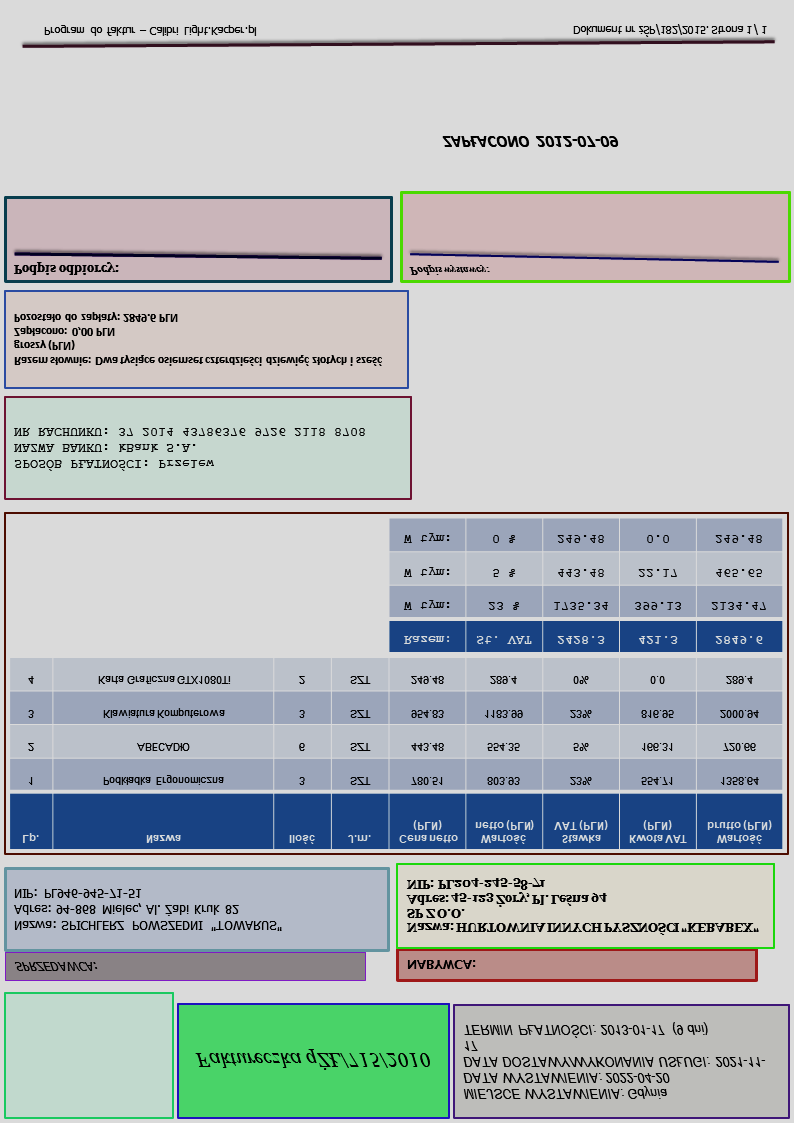Table: (8, 656, 781, 853), (388, 516, 784, 655)
TextBox: (461, 1017, 767, 1104), (11, 309, 384, 371), (403, 876, 764, 937), (11, 422, 368, 474), (10, 883, 285, 938), (190, 1047, 432, 1074), (40, 21, 258, 41), (440, 132, 621, 153), (571, 21, 770, 40), (10, 259, 120, 281), (406, 263, 490, 282), (12, 959, 97, 977), (403, 955, 476, 974)
